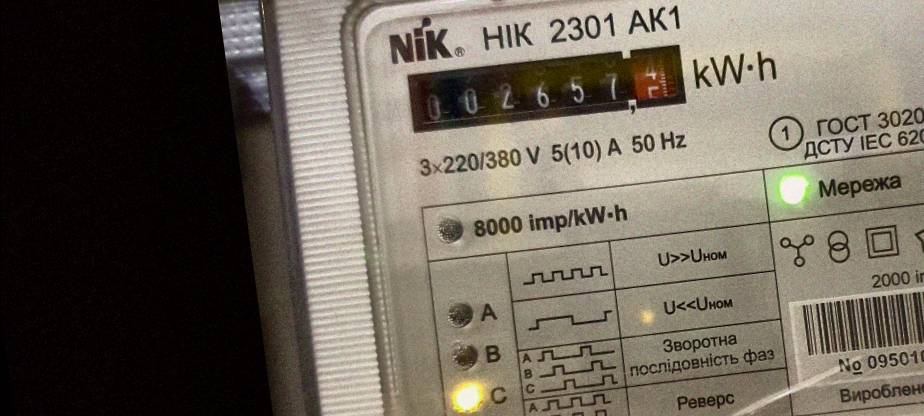0: (424, 90, 444, 121), (461, 83, 480, 115)
2: (497, 79, 517, 110)
4: (641, 53, 660, 80)
5: (568, 72, 588, 104), (646, 82, 663, 98)
6: (533, 77, 552, 108)
7: (604, 68, 623, 101)
screen: (396, 26, 700, 150)
